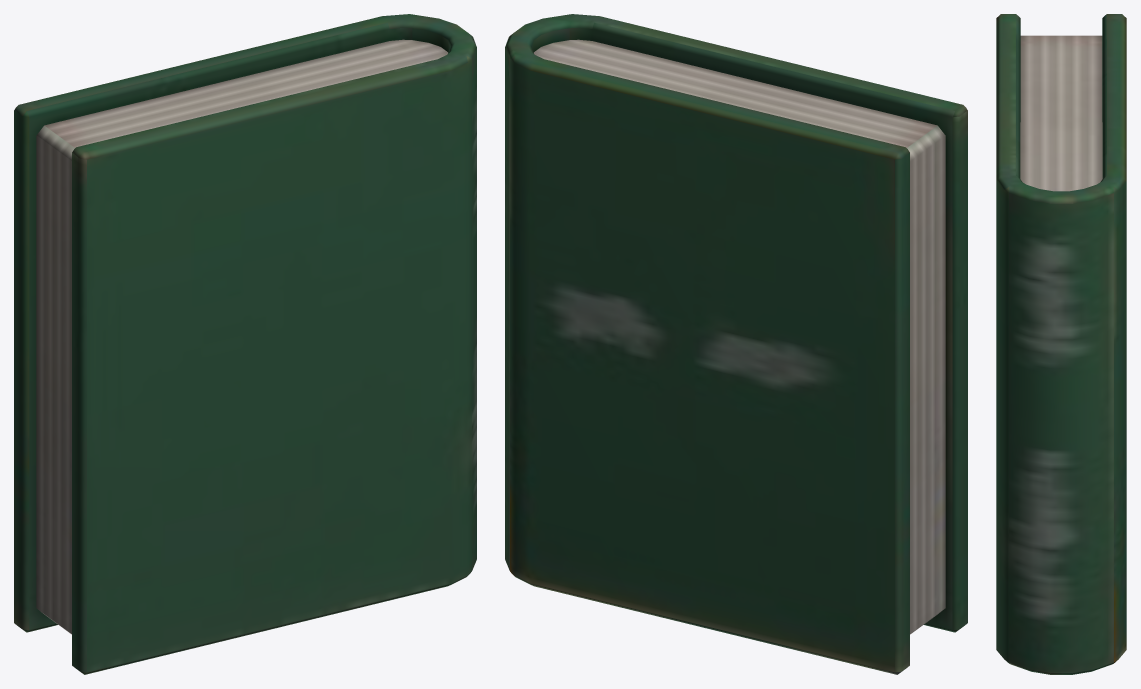
Rendered from SM_Book001_03.glb.
3 renders of one model, left to right at view 1: azimuth 30°, elevation 25°; view 2: azimuth 150°, elevation 25°; view 3: azimuth 270°, elevation 25°, orthographic. The views are drawn at different scales.
Parts seen in each view (by area): view 1: SM_Book001_03; view 2: SM_Book001_03; view 3: SM_Book001_03.
Boxes of the visible parts, x1,y1,x2,y2 form: SM_Book001_03: (14, 14, 476, 674); SM_Book001_03: (505, 14, 967, 674); SM_Book001_03: (996, 14, 1126, 674).
Size of the model in its own units: 0.3111 by 0.3696 by 0.0912.
Materials: 1 (1 with a texture image).
